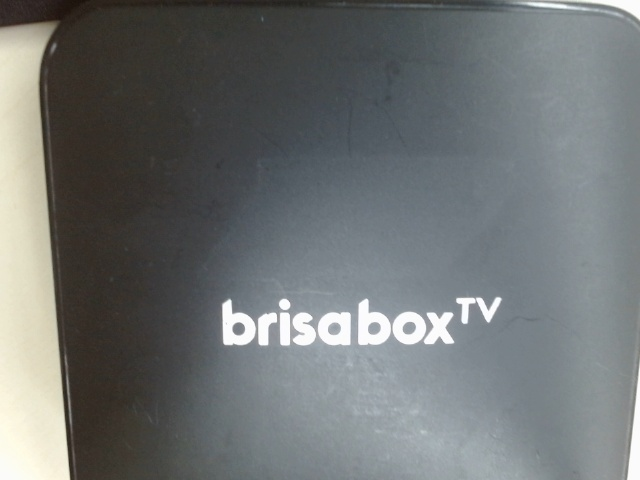AH_brisabox: (208, 288, 515, 360)
